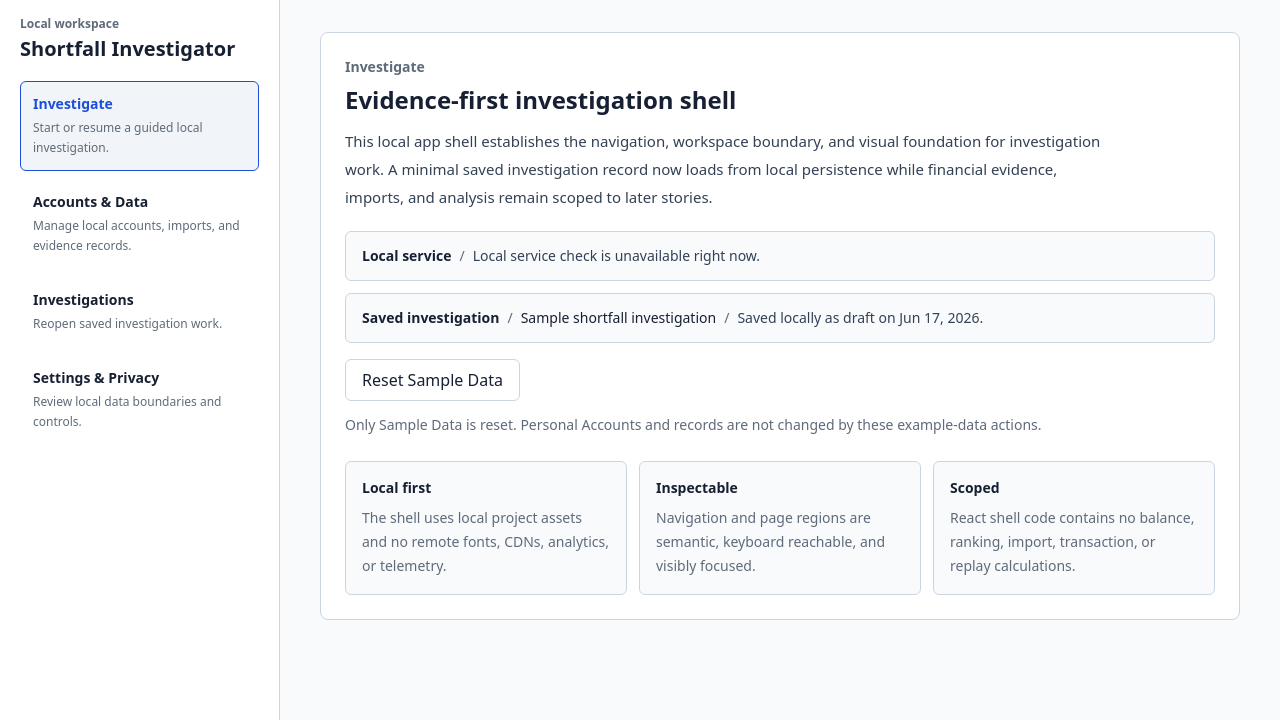
Test case: Shortfall Investigator app shell › shows reset-specific safe failure copy
Step 1. Click the button "Reset Sample Data" → (432, 380), box [345,359,520,401]
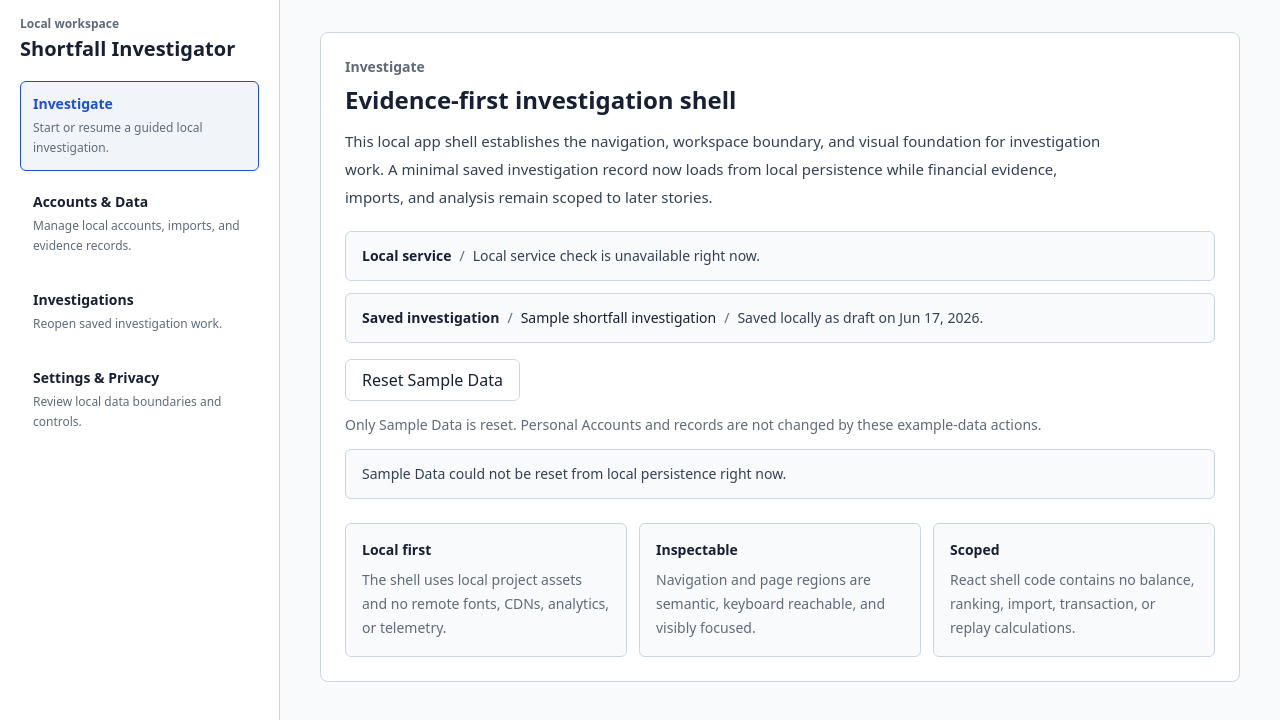
Expected: the text "Sample Data could not be reset from local persistence right now." is shown, [345,449,1215,499]
